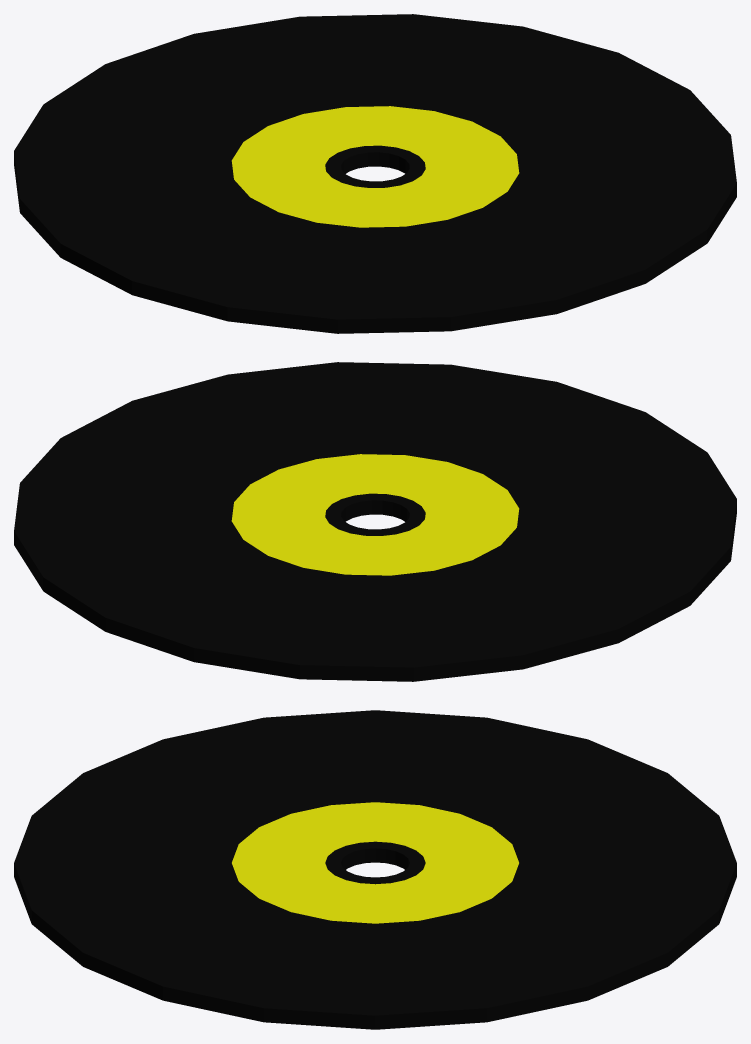
The model's file is Record 1.fbx.
3 renders of one model, top to bottom at view 1: azimuth 30°, elevation 25°; view 2: azimuth 150°, elevation 25°; view 3: azimuth 270°, elevation 25°, orthographic.
Visible parts, largest first — view 1: Record; view 2: Record; view 3: Record.
Part boxes in pixels (box(x1,y1,x2,y2)): Record: box(14, 14, 736, 333); Record: box(14, 362, 736, 681); Record: box(14, 710, 736, 1029).
Bounding box in the file's own units: 3.17 × 0.0683 × 3.17.
